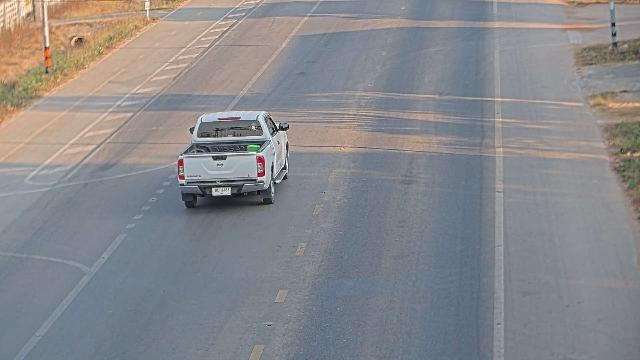pickup-truck: (176, 109, 290, 208)
